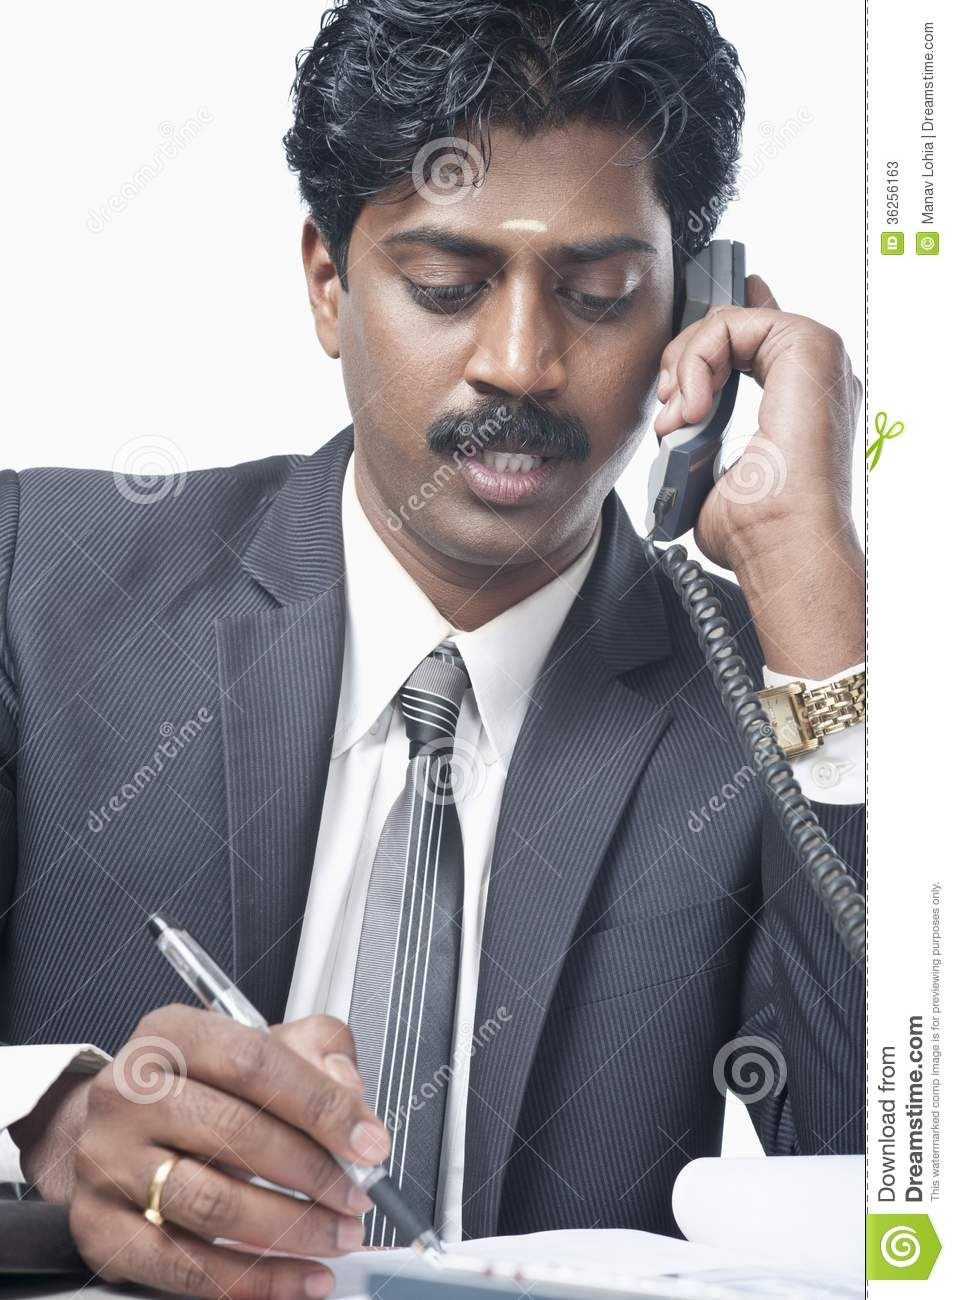phone: (623, 207, 767, 548)
talk: (374, 191, 863, 678)
